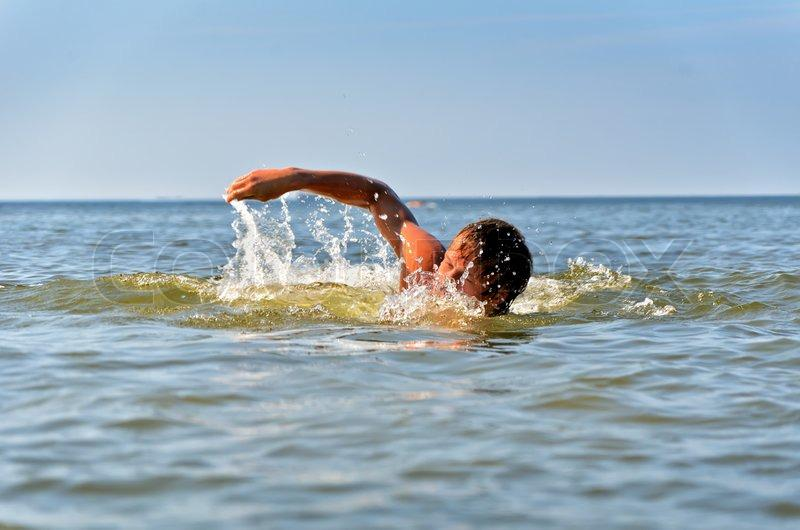human: (219, 161, 537, 337)
